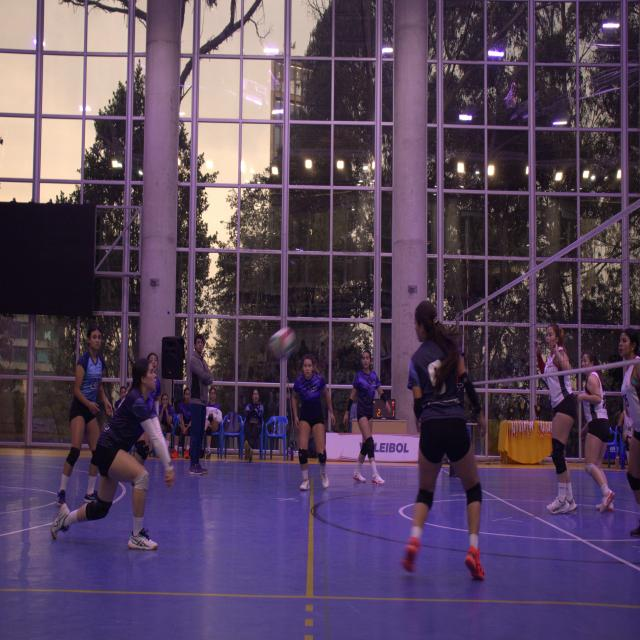volleyball: (271, 328, 296, 360)
